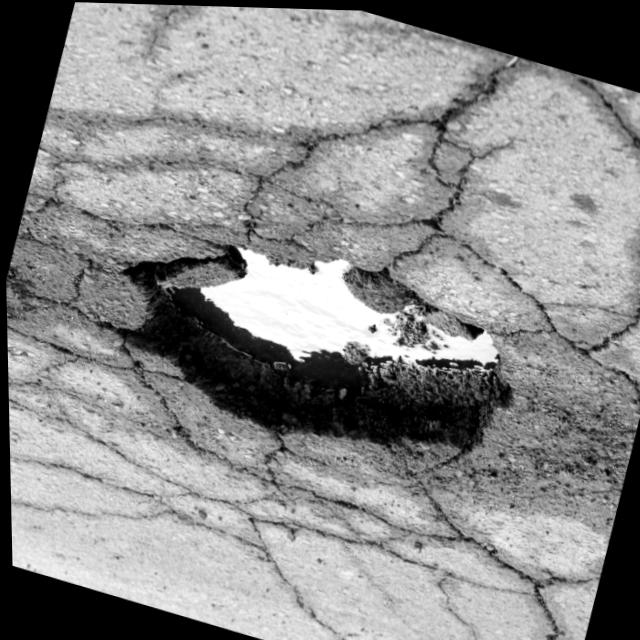pathole: (122, 215, 567, 533), (123, 296, 483, 468), (170, 248, 495, 393), (170, 248, 495, 391), (170, 248, 495, 391)
